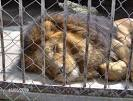lion: (23, 12, 133, 91)
